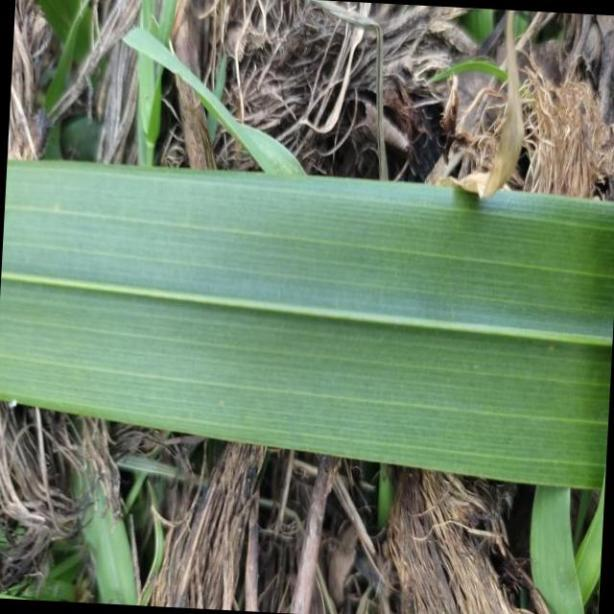Healthy: (0, 157, 614, 491)
